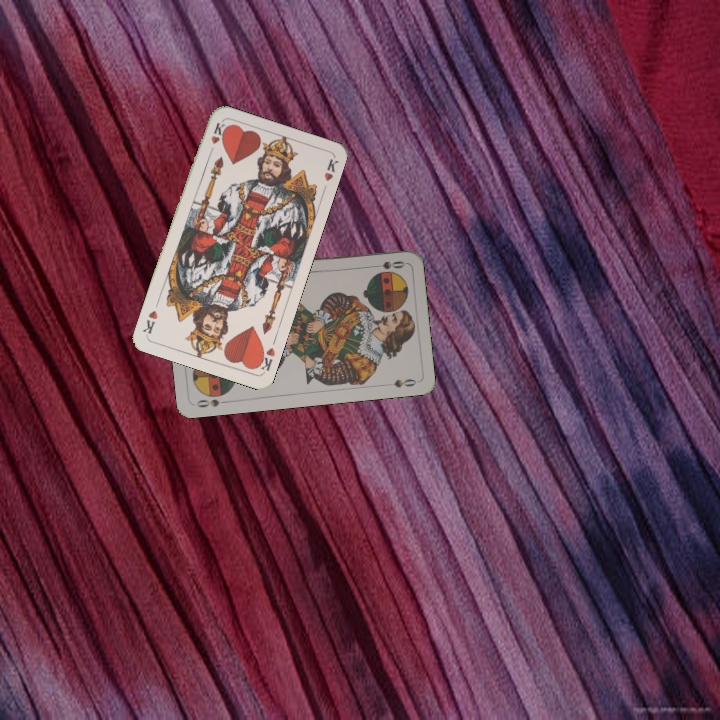HK: (204, 118, 226, 158), (252, 342, 278, 375)
SO: (367, 257, 407, 272), (192, 395, 232, 410)
